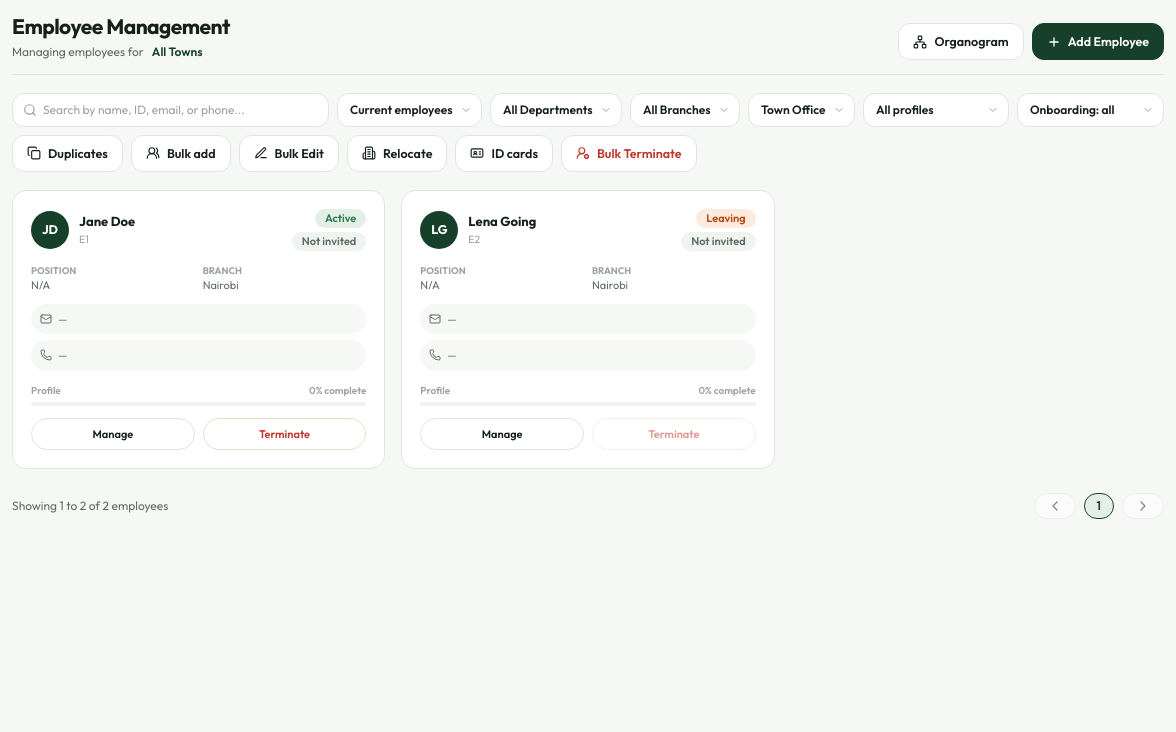
Test: current and former employees › opens on current employees (those leaving included); Former shows who has left; All shows everyone
Later steps or results of the test are not shown.
Expected: the text "Leaving" is shown, [696,209,756,228]
Step 1. Select "Former employees" in the dropdown named "Show current or former employees" → (410, 110), box [337,93,482,127]
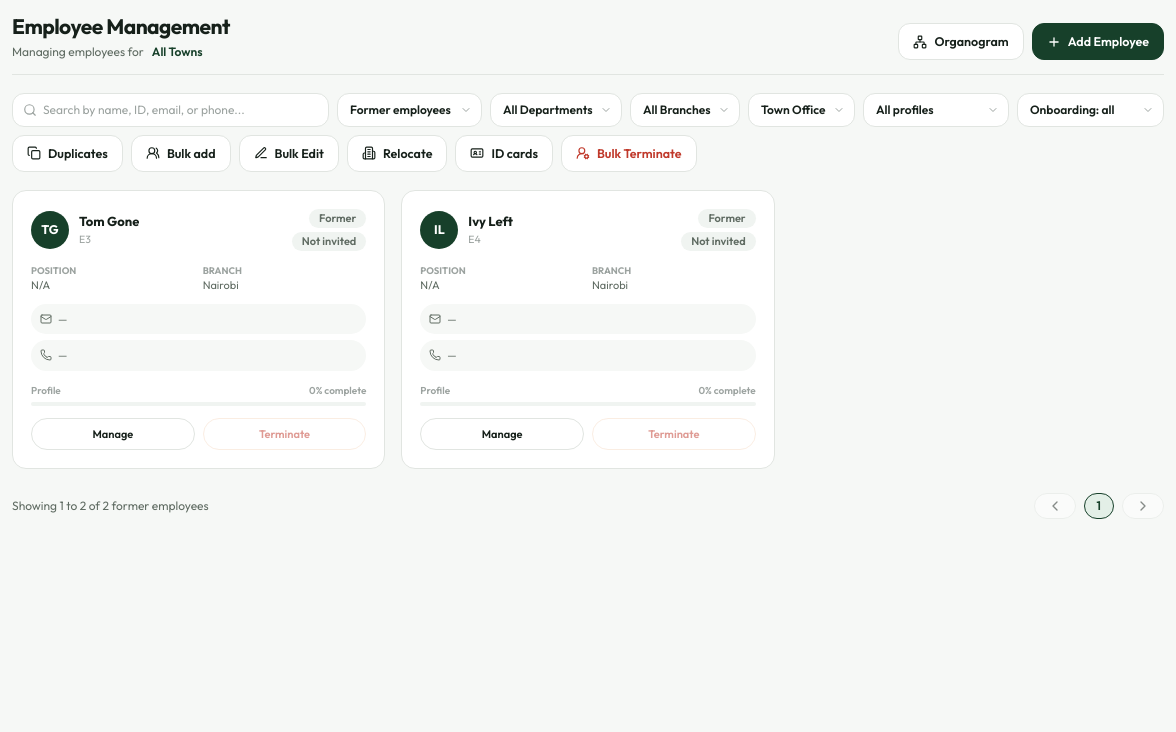
Expected: the text "Former" is shown 2 times, [309,209,366,228]; [698,209,756,228]
Now the button "Terminate" below "E3" is disabled, box [203,418,366,450]
